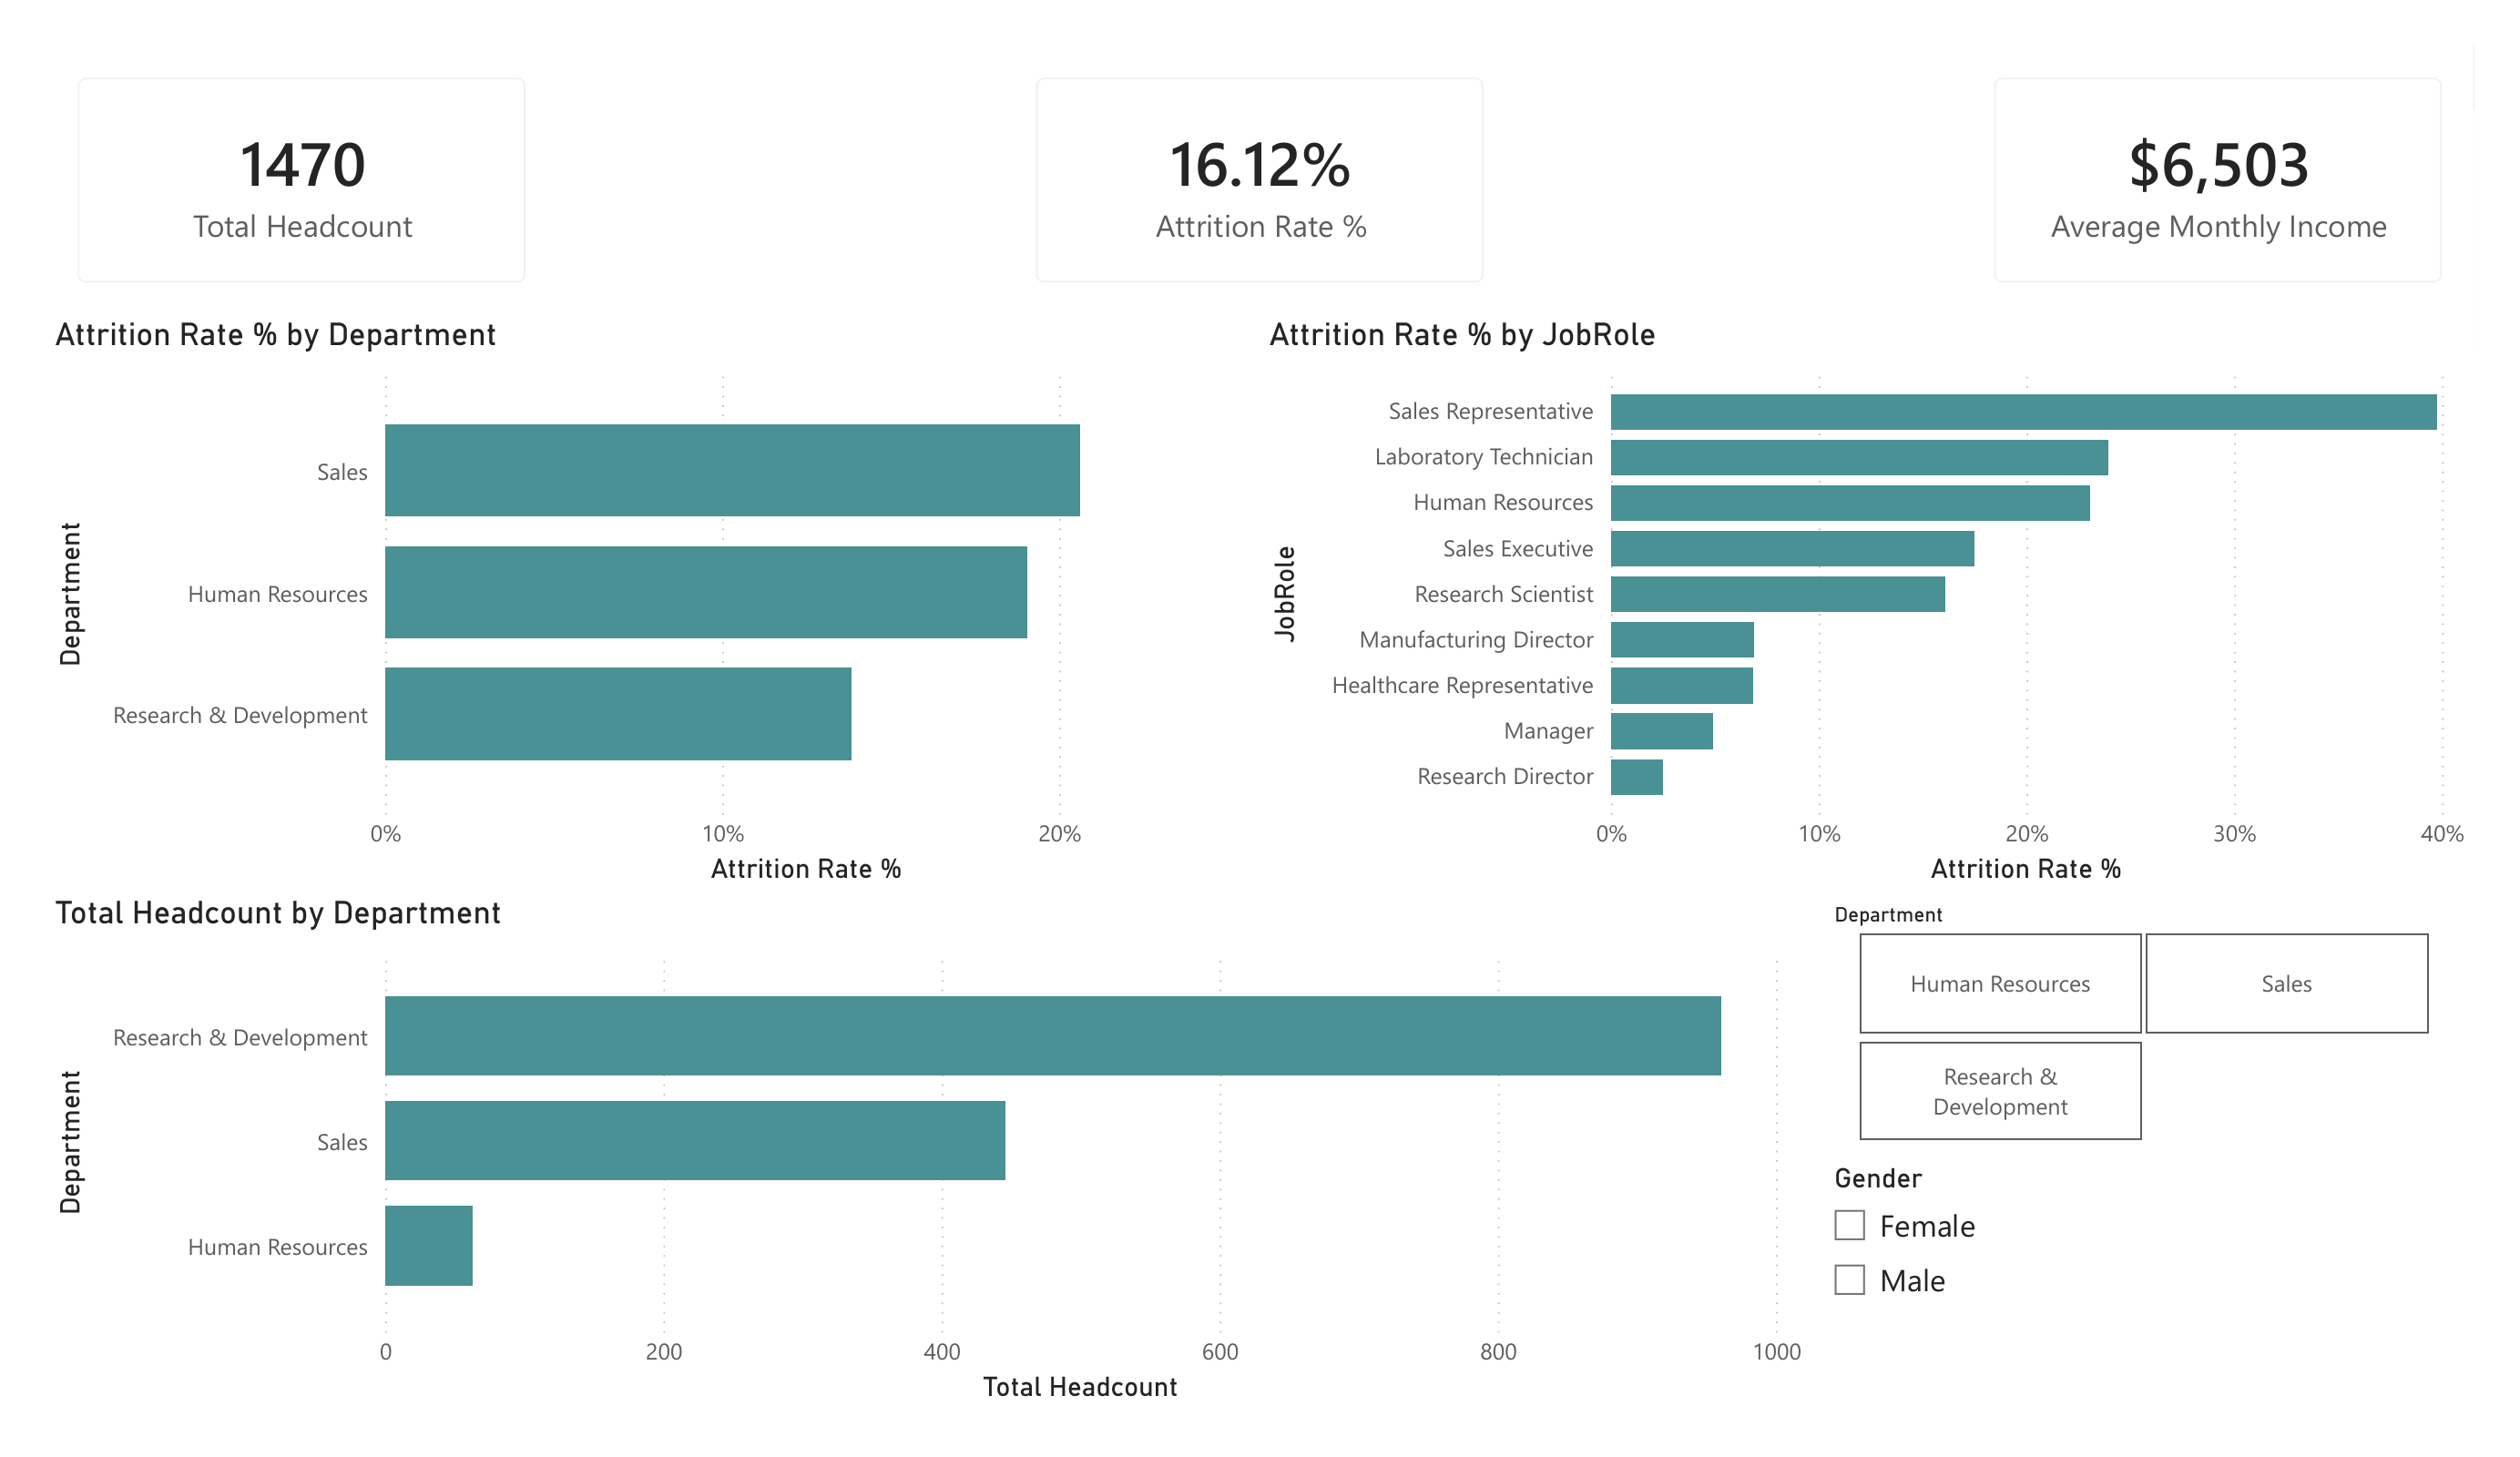

The page's visual inventory and layout, read from the dashboard file:
{"tool":"powerbi","page":{"name":"Overview","canvas":[1280,720],"ordinal":0},"visuals":[{"type":"cardVisual","fields":{"Data":["AllMeasures.Total Headcount"]},"box":[0,0,270.4,142],"z":0},{"type":"cardVisual","fields":{"Data":["AllMeasures.Attrition Rate %"]},"box":[504.8,0,270.4,142],"z":1},{"type":"cardVisual","fields":{"Data":["AllMeasures.Average Monthly Income"]},"box":[1009.6,0,270.4,142],"z":2},{"type":"clusteredBarChart","fields":{"Y":["AllMeasures.Attrition Rate %"],"Category":["Employees.Department"]},"box":[0,142,640,305.4],"z":3},{"type":"clusteredBarChart","fields":{"Y":["AllMeasures.Attrition Rate %"],"Category":["Employees.JobRole"]},"box":[640,142,640,305.4],"z":4},{"type":"clusteredBarChart","fields":{"Category":["Employees.Department"],"Y":["AllMeasures.Total Headcount"]},"box":[0,447.4,929.8,272.3],"z":5},{"type":"slicer","fields":{"Values":["Employees.Department"]},"box":[929.8,447.4,350.2,136.2],"z":6},{"type":"slicer","fields":{"Values":["Employees.Gender"]},"box":[929.8,583.6,350.2,136.2],"z":7}]}

Visuals, with their boxes on the page's 1280x720 design canvas (x1, y1, x2, y2). These are canvas units, not pixel positions in the 2520x1457 screenshot, which may show the page scaled, cropped or inside an application window:
cardVisual - AllMeasures.Total Headcount: x1=0, y1=0, x2=270, y2=142
cardVisual - AllMeasures.Attrition Rate %: x1=505, y1=0, x2=775, y2=142
cardVisual - AllMeasures.Average Monthly Income: x1=1010, y1=0, x2=1280, y2=142
clusteredBarChart - AllMeasures.Attrition Rate % x Employees.Department: x1=0, y1=142, x2=640, y2=447
clusteredBarChart - AllMeasures.Attrition Rate % x Employees.JobRole: x1=640, y1=142, x2=1280, y2=447
clusteredBarChart - Employees.Department x AllMeasures.Total Headcount: x1=0, y1=447, x2=930, y2=720
slicer - Employees.Department: x1=930, y1=447, x2=1280, y2=584
slicer - Employees.Gender: x1=930, y1=584, x2=1280, y2=720
